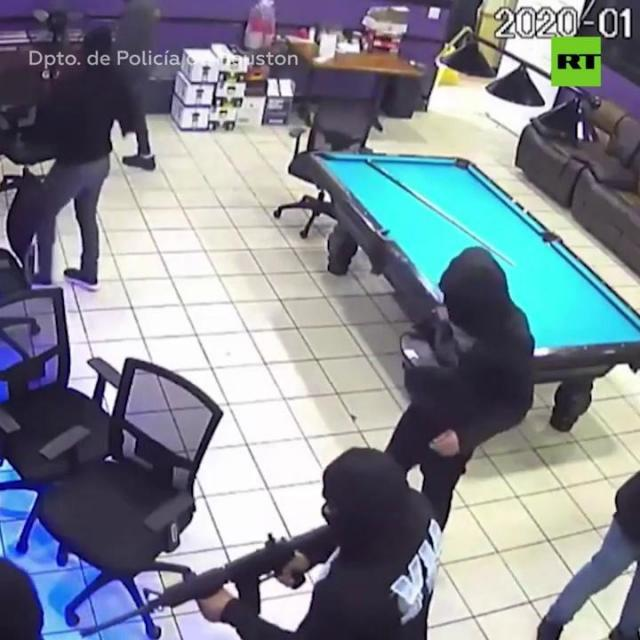weapon: (70, 523, 328, 640)
